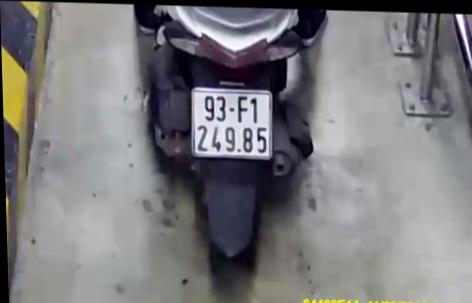LP: (186, 83, 275, 160)
